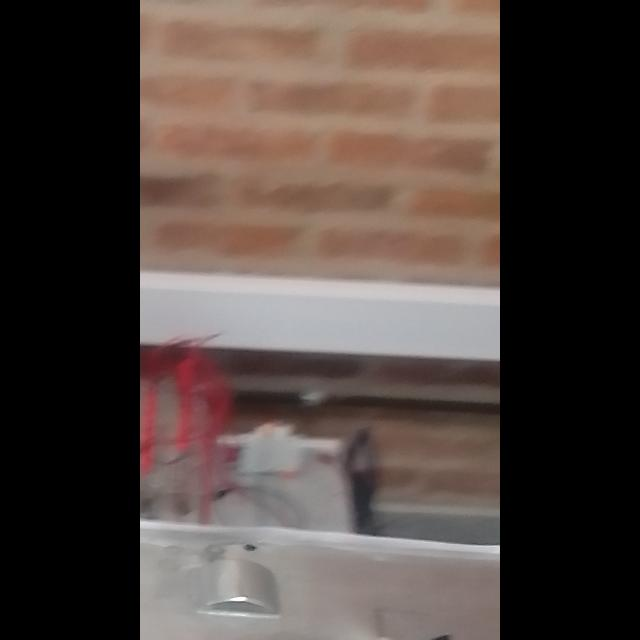redBox: (140, 618, 226, 640)
